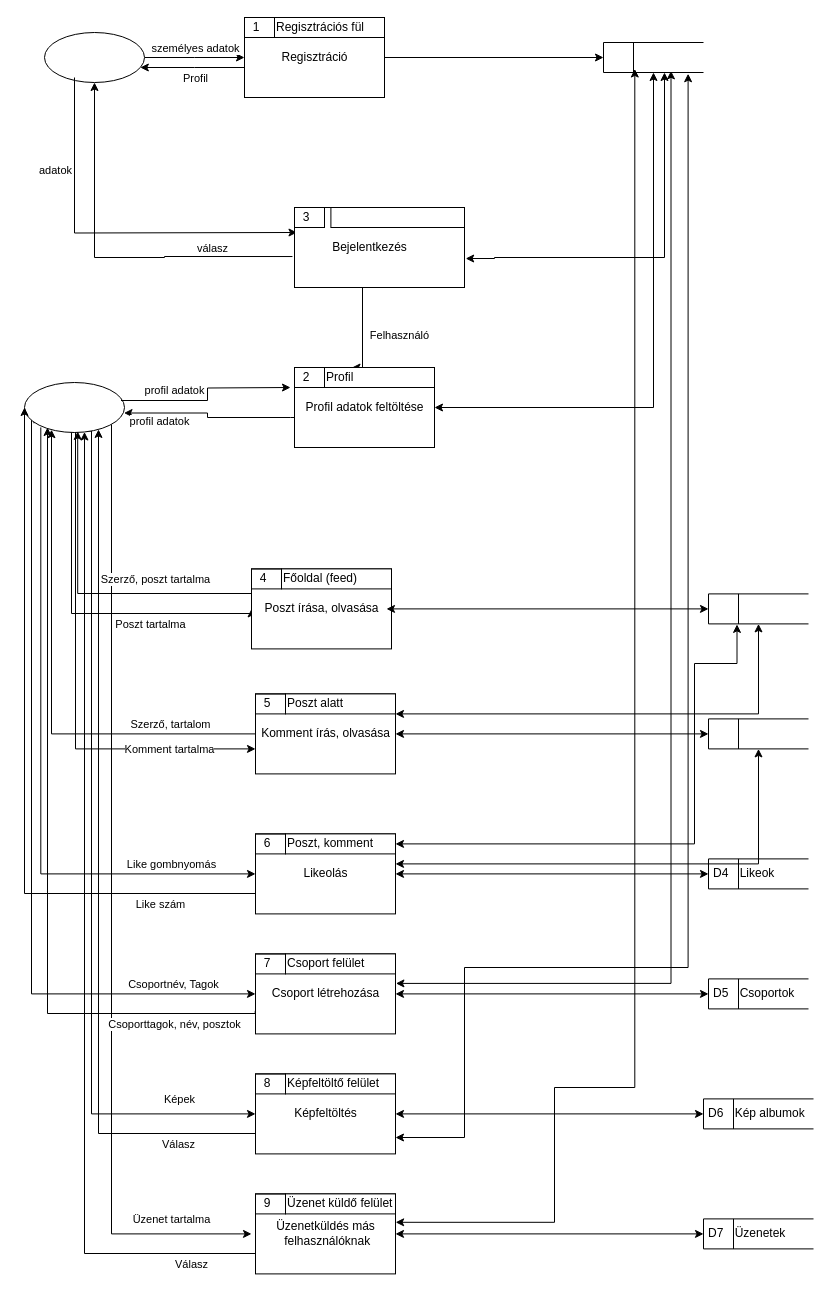
Some shapes in this 831 by 1292 pixel diagram are drawn without their labels. The shapes that lost their labels are listed below. From the top down, each one's centre as x and y in pixels, then its label:
At point 94,57: "Guest".
At point 653,57: "D1 User".
At point 397,217: "Bejelentkezés felület".
At point 74,407: "User".
At point 758,608: "D2 Posztok".
At point 758,733: "D3 Kommentek".
